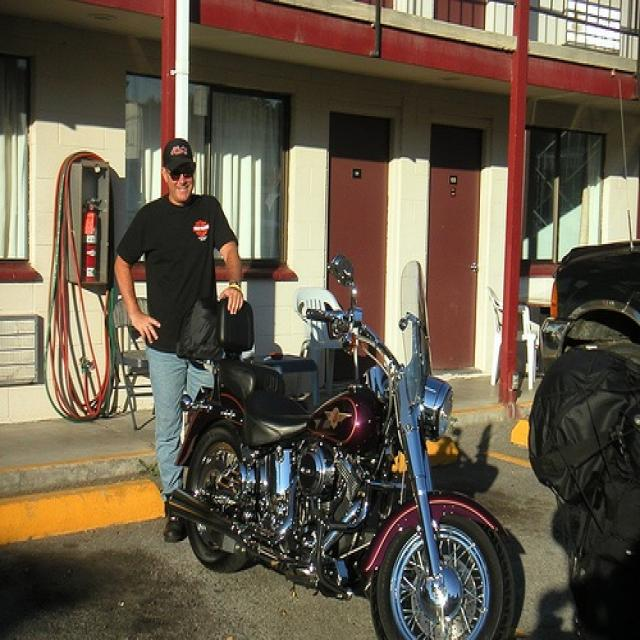motorbike: (174, 251, 512, 638)
